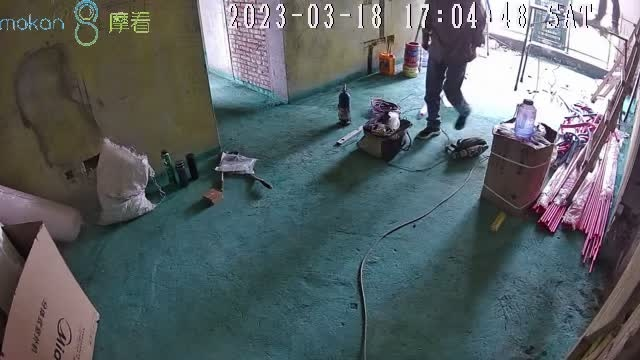people: (418, 1, 488, 139)
window: (495, 1, 636, 64)
